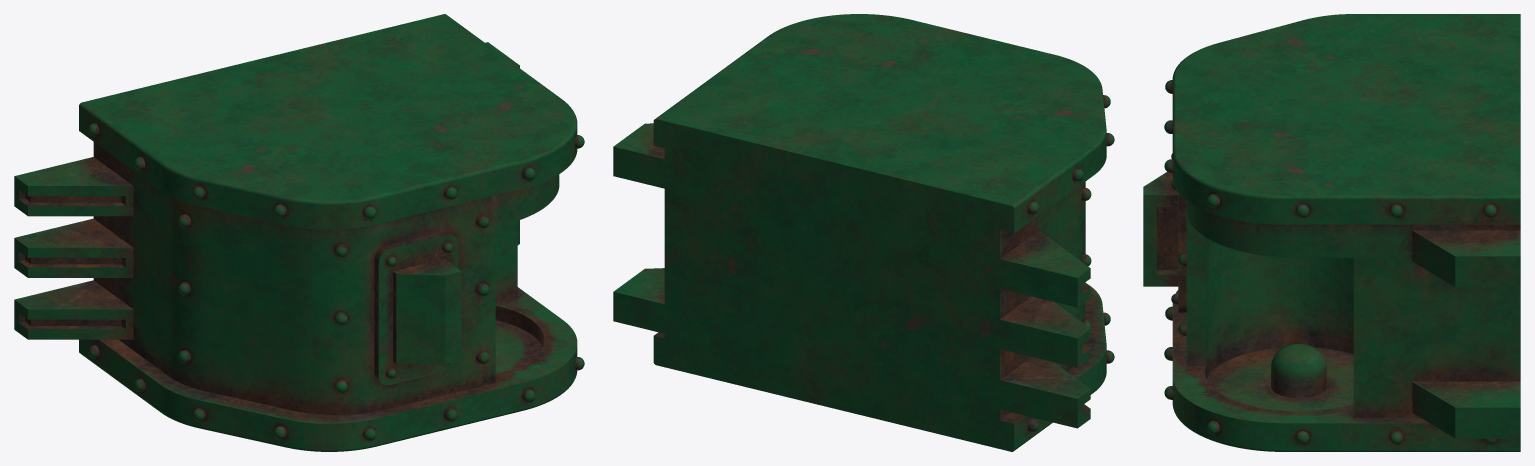
3 renders of one model, left to right at view 1: azimuth 30°, elevation 25°; view 2: azimuth 150°, elevation 25°; view 3: azimuth 270°, elevation 25°, orthographic. The views are drawn at different scales.
Visible parts, largest first — view 1: Spans1; view 2: Spans1; view 3: Spans1.
Boxes of the visible parts, left/top/right/bottom form: Spans1: left=14, top=14, right=584, bottom=451; Spans1: left=613, top=14, right=1114, bottom=451; Spans1: left=1143, top=14, right=1520, bottom=451.
Bounding box in the file's own units: 4017 × 2035 × 2710.
1 material, 1 textured.
